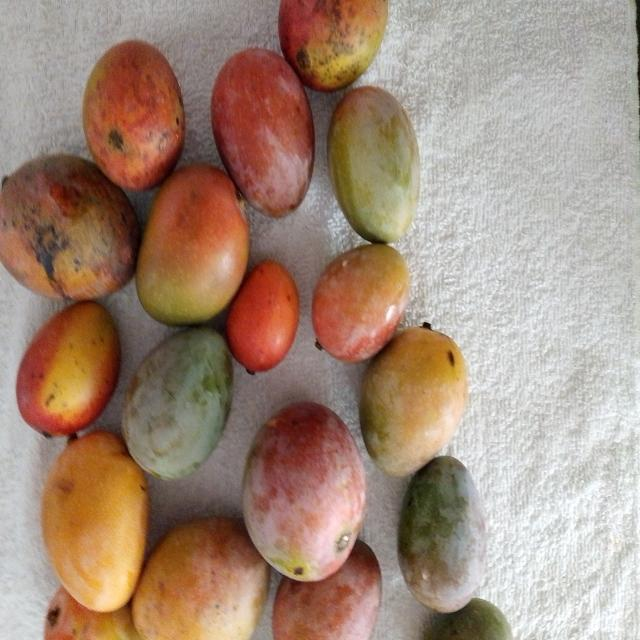mango: (243, 402, 365, 581), (0, 154, 140, 299), (42, 431, 148, 611), (136, 164, 249, 325), (211, 48, 314, 217), (132, 517, 269, 639), (123, 327, 232, 478), (360, 327, 468, 476), (83, 40, 185, 190), (328, 87, 419, 243), (16, 301, 120, 435), (398, 457, 486, 612), (312, 245, 409, 362), (273, 540, 381, 639), (279, 0, 388, 91), (44, 587, 140, 639), (425, 598, 512, 639)
